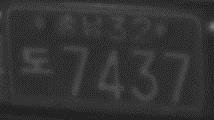2: (132, 16, 156, 44)
3: (131, 49, 159, 102), (109, 15, 128, 40)
4: (97, 48, 125, 96)
7: (163, 51, 190, 106), (62, 45, 90, 97)
도: (21, 45, 52, 75)
충남_O: (54, 13, 104, 41)
